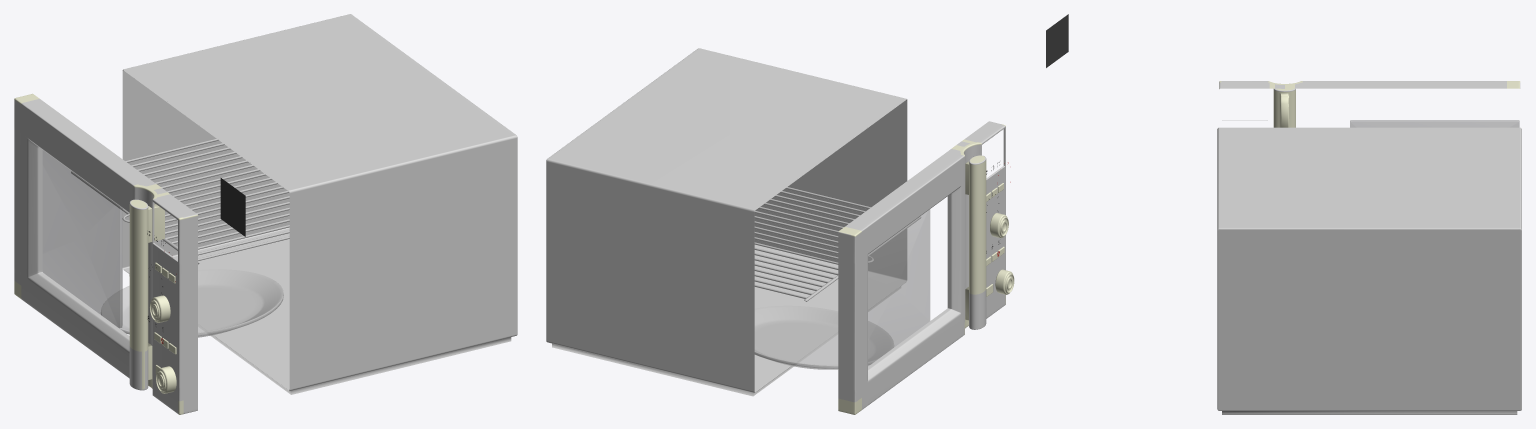
Rendered from microwave.glb.
3 views of the same model, side by side, from view 1: azimuth 30°, elevation 25°; view 2: azimuth 150°, elevation 25°; view 3: azimuth 270°, elevation 25° (orthographic). The views are drawn at different scales.
Parts seen in each view (by area): view 1: microwave_, microwave0, microwave1, microwave4, microwave5, microwave2; view 2: microwave_, microwave0, microwave1, microwave5, microwave4, microwave2; view 3: microwave_, microwave0, microwave1.
Part boxes in pixels (x1,y1,x2,y2): microwave_: (122, 14, 517, 394); microwave0: (14, 93, 197, 414); microwave1: (42, 150, 122, 328); microwave4: (71, 138, 289, 264); microwave5: (101, 269, 283, 337); microwave2: (220, 178, 245, 236); microwave_: (546, 48, 907, 396); microwave0: (838, 121, 1014, 414); microwave1: (868, 209, 930, 366); microwave5: (754, 305, 893, 369); microwave4: (754, 187, 920, 301); microwave2: (1046, 14, 1068, 67); microwave_: (1217, 127, 1521, 414); microwave0: (1219, 81, 1520, 127); microwave1: (1350, 120, 1519, 127).
Size of the model in its own units: 0.37 by 0.281 by 0.4285.
